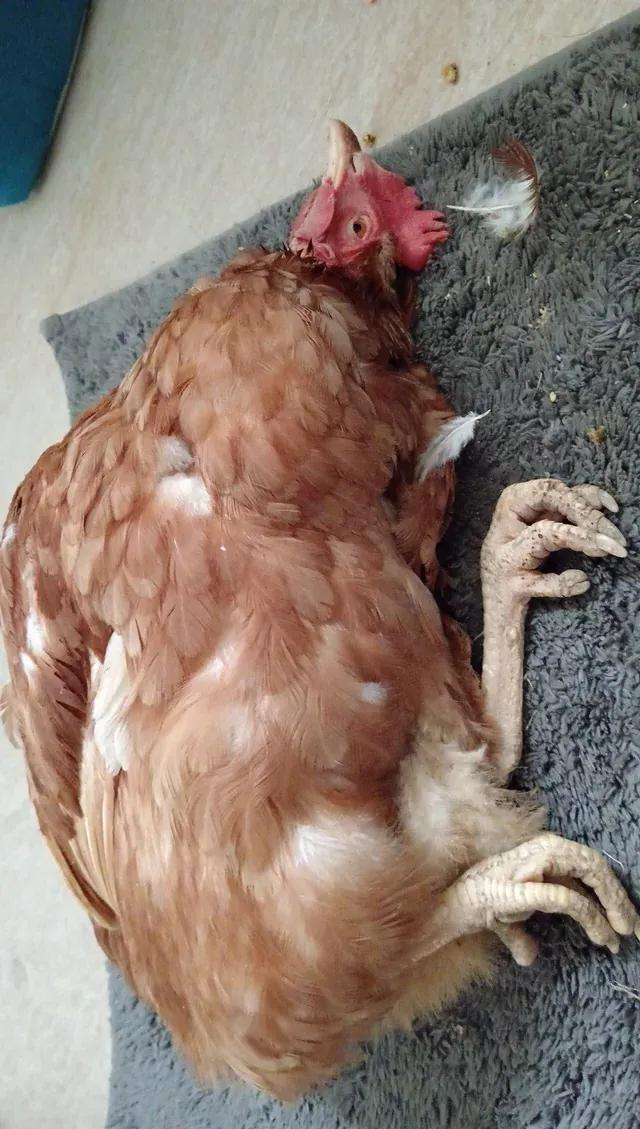AbNormal: (20, 116, 640, 1107)
